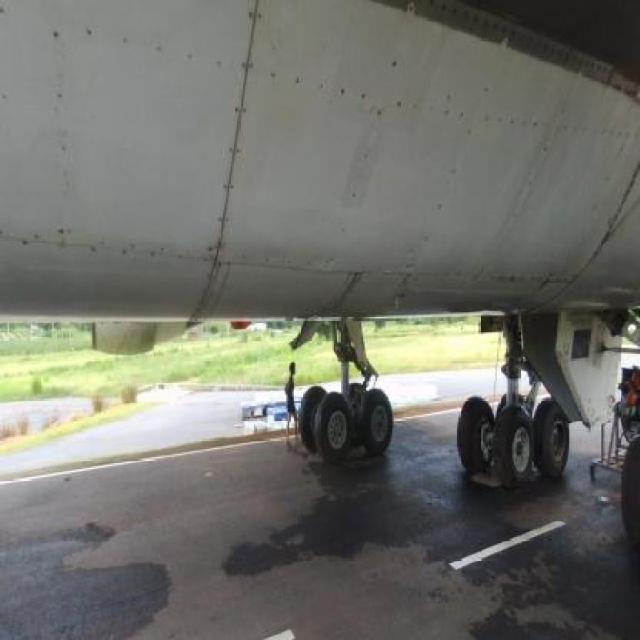Missing-Rivet: (264, 44, 541, 153), (64, 10, 256, 84), (209, 11, 263, 264), (408, 95, 484, 254), (29, 223, 220, 282), (459, 256, 576, 302), (55, 21, 77, 262)
